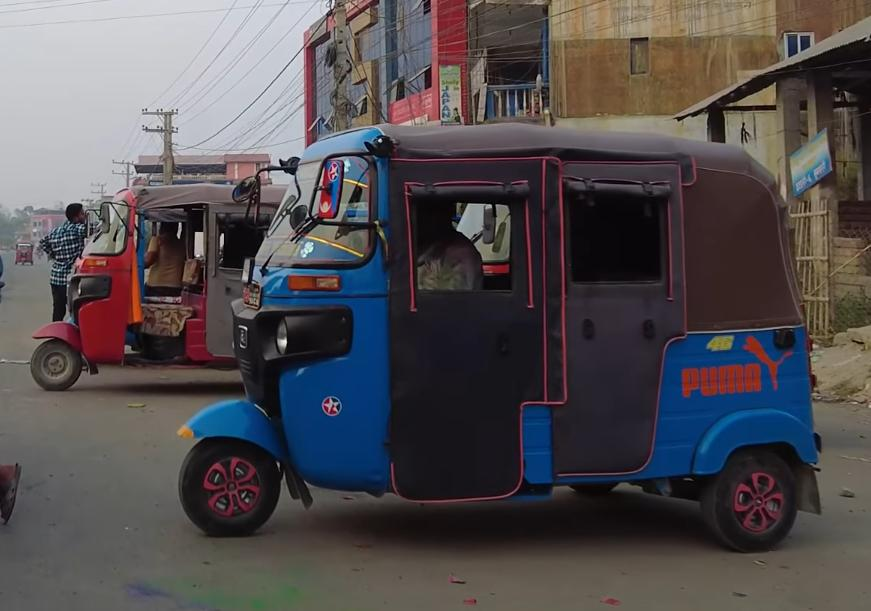auto_rickshaw: (155, 109, 827, 557), (25, 163, 291, 395)
